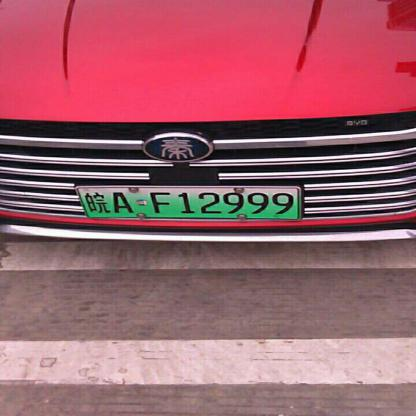lp: (78, 189, 298, 217)
